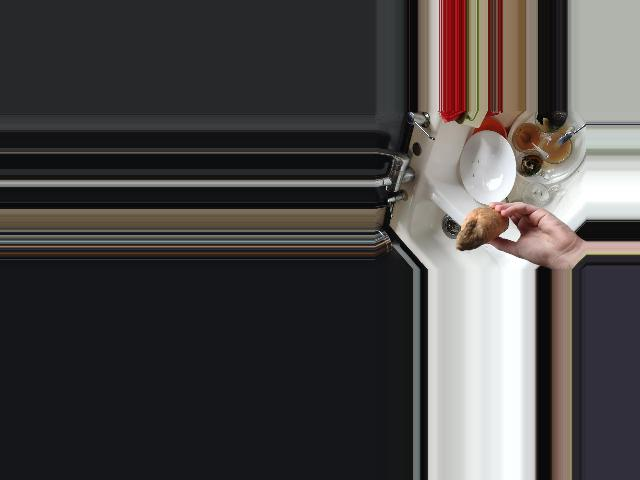sweet_potato: (455, 205, 508, 255)
